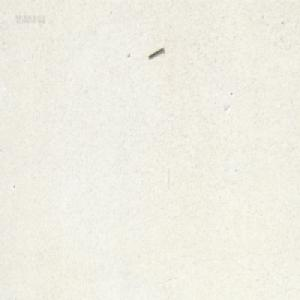Bolt: (148, 47, 164, 59)
